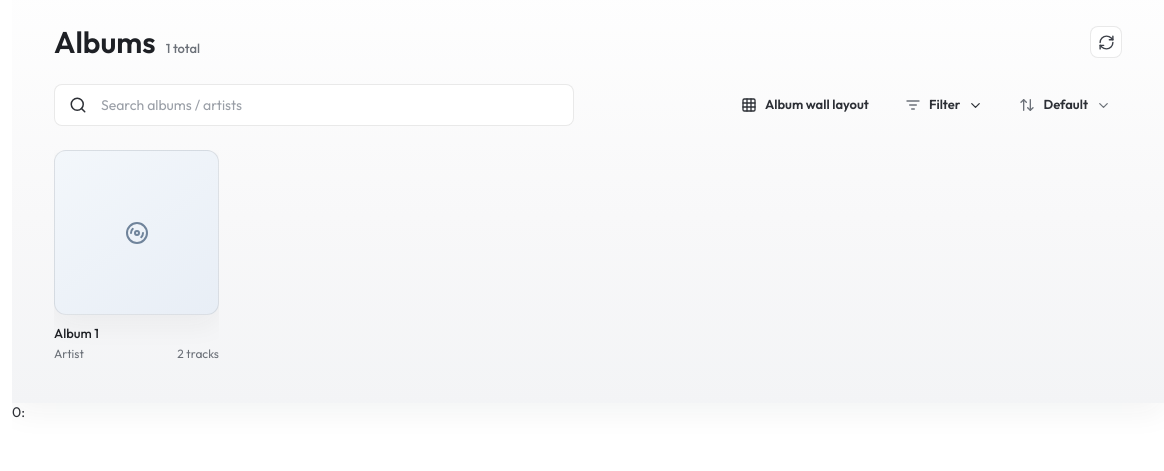
AlbumsPage › queues an album to play next from the context menu
The width and height of the screenshot is (1164, 471).
Right-click the text "Album 1".
right_click(76, 333)  # box [54, 325, 99, 341]
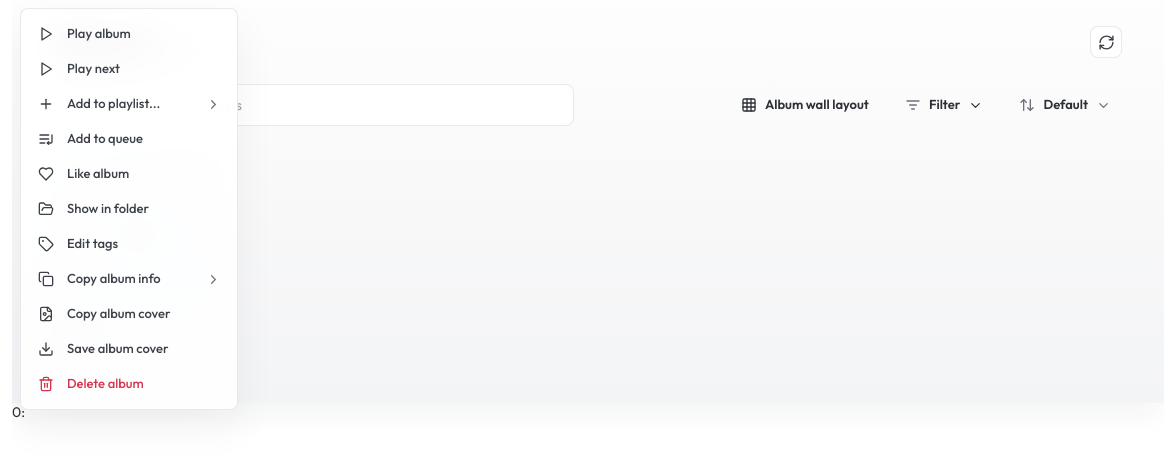
Click the menu item "Play next".
click(129, 69)  # box [29, 52, 229, 86]
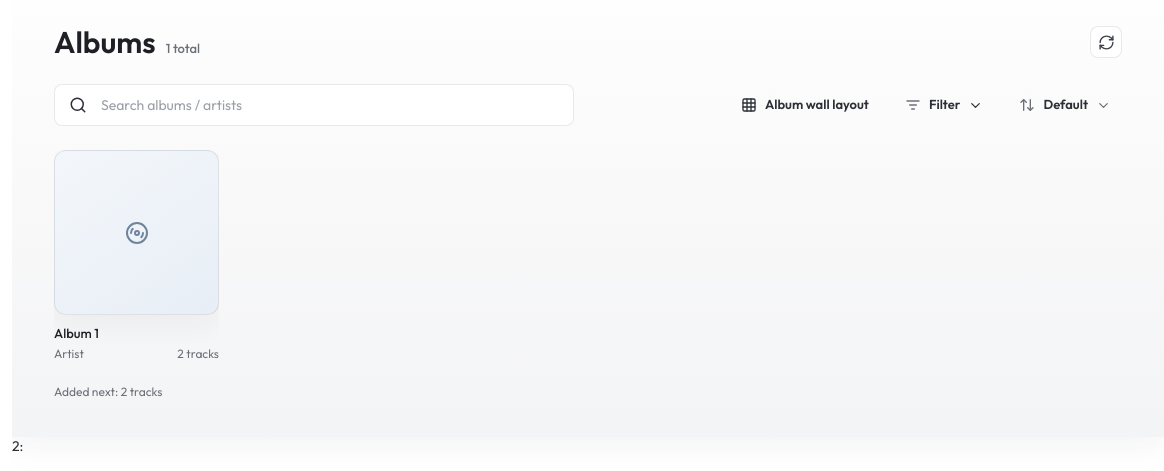
Expected: the text named "queue-state" reads "2:", [12, 437, 23, 455]
Expected: the text "Added next: 2 tracks" is shown, [54, 384, 162, 400]
